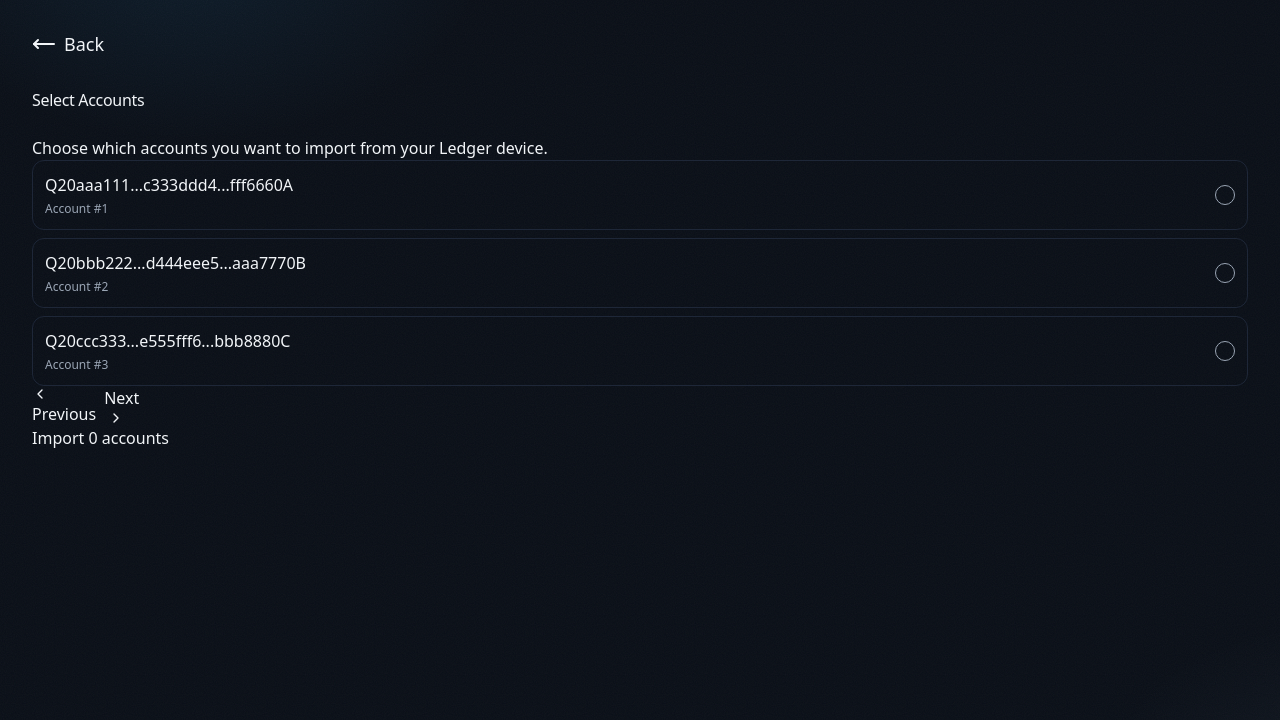
it: ImportLedger › Step 2: Select Accounts › should show error when import fails
Step 1. Click the text "Account #1" → (77, 208), box [45, 200, 108, 217]
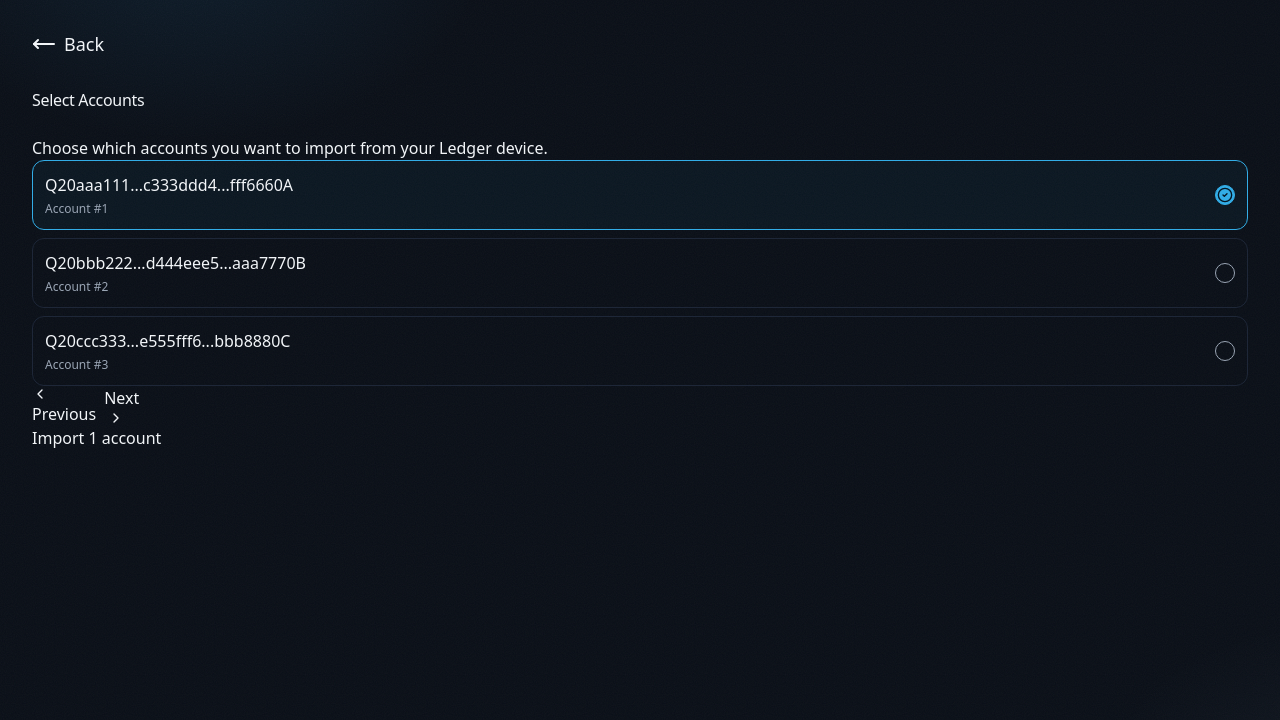
Step 2. Click the button "Import 1 account" → (97, 438), box [32, 426, 161, 450]
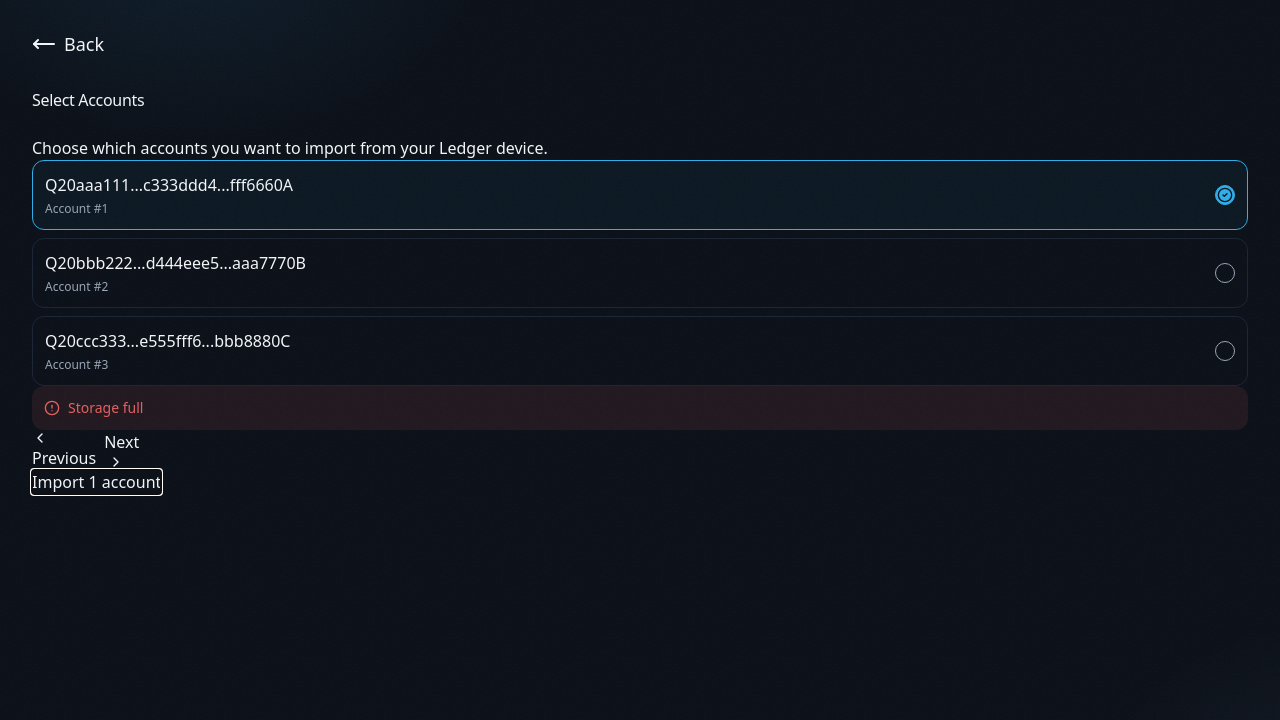
Now the text "Storage full" is shown, box [68, 398, 143, 418]
